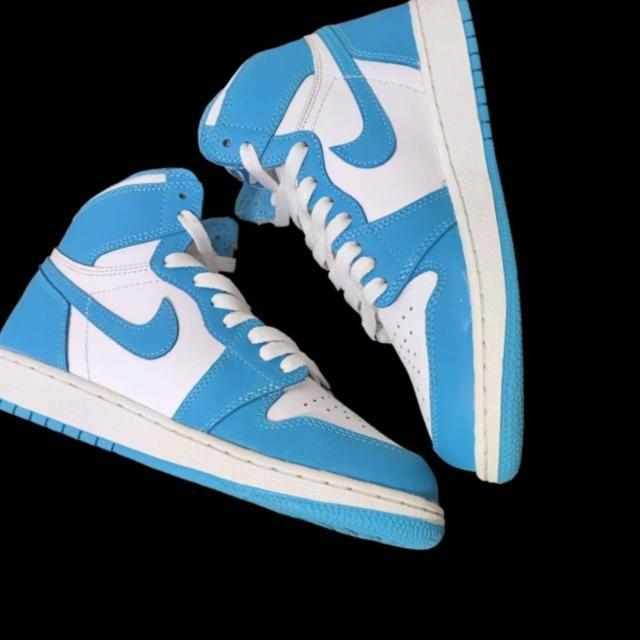nike original jordan 1: (156, 0, 640, 514), (0, 133, 475, 640)
